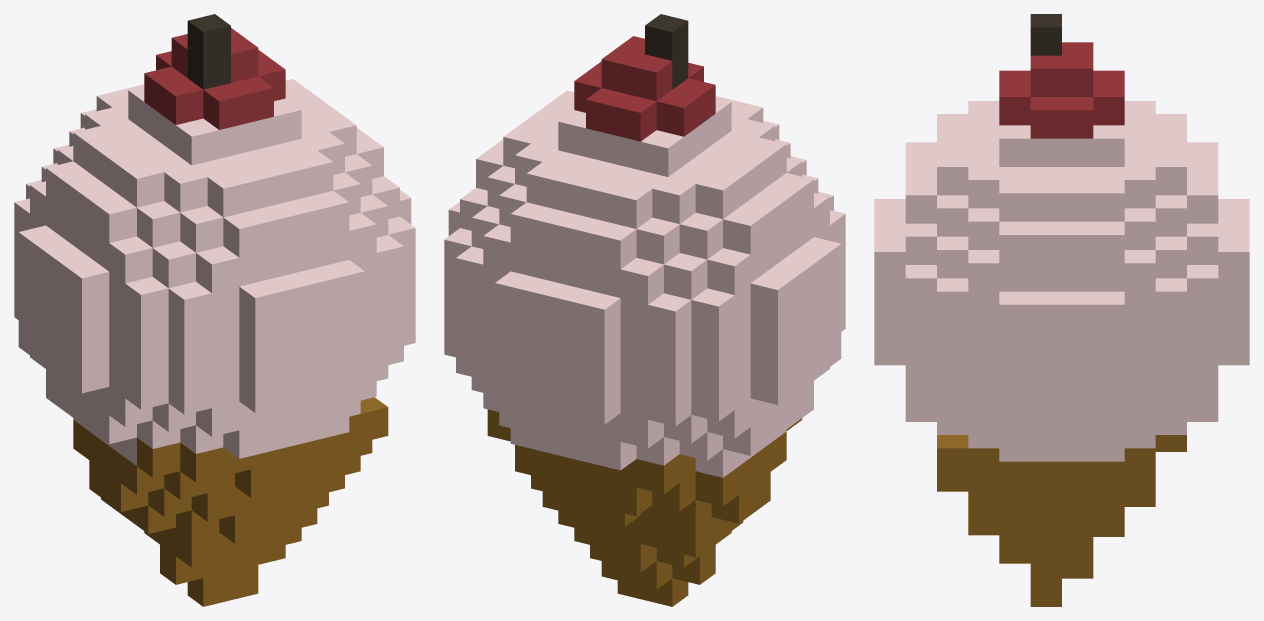
File: id-beach-icecream.obj
3 views of the same model, side by side, from view 1: azimuth 30°, elevation 25°; view 2: azimuth 150°, elevation 25°; view 3: azimuth 270°, elevation 25° (orthographic).
Bounding box in the file's own units: 12 × 20 × 12.
1 material, 1 textured.
